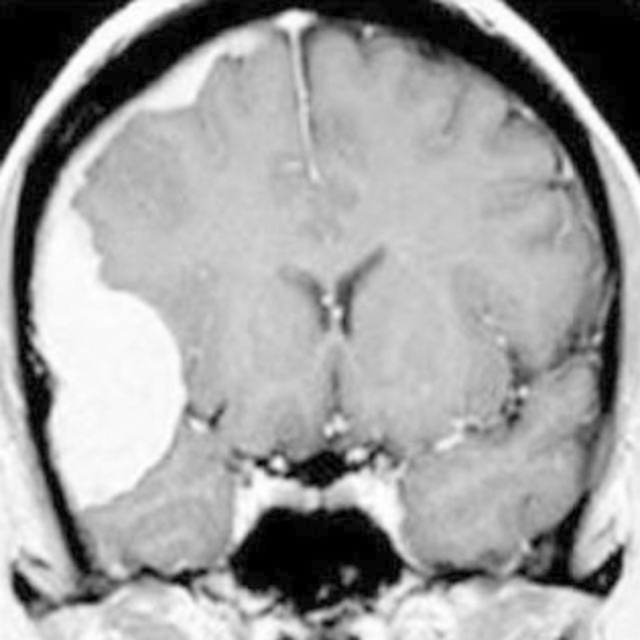meningioma tumor: (22, 181, 199, 506)
